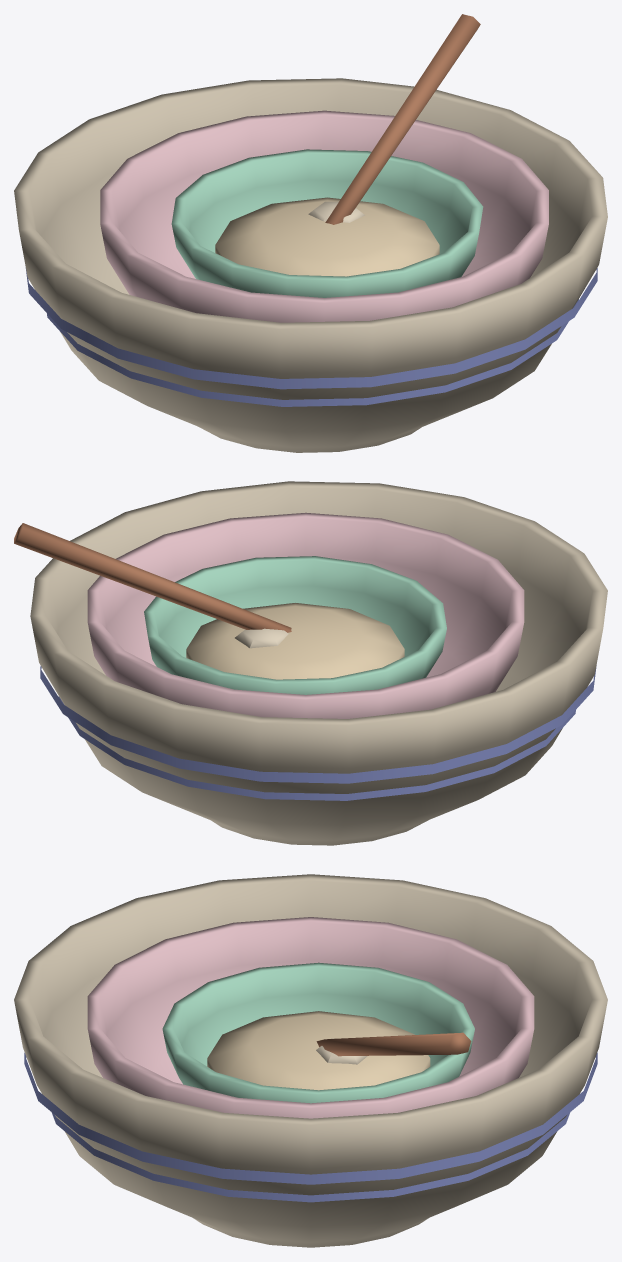
File: mixing_bowls.glb
3 views of the same model, one above another, from view 1: azimuth 30°, elevation 25°; view 2: azimuth 150°, elevation 25°; view 3: azimuth 270°, elevation 25° (orthographic). The views are drawn at different scales.
Visible parts, largest first — view 1: mixing_bowls; view 2: mixing_bowls; view 3: mixing_bowls.
Boxes of the visible parts, <box> form: mixing_bowls: <box>14,14,607,452</box>; mixing_bowls: <box>14,481,607,845</box>; mixing_bowls: <box>14,874,607,1247</box>.
Size of what is drawn, in the model's own units: 0.4 by 0.2 by 0.4.
